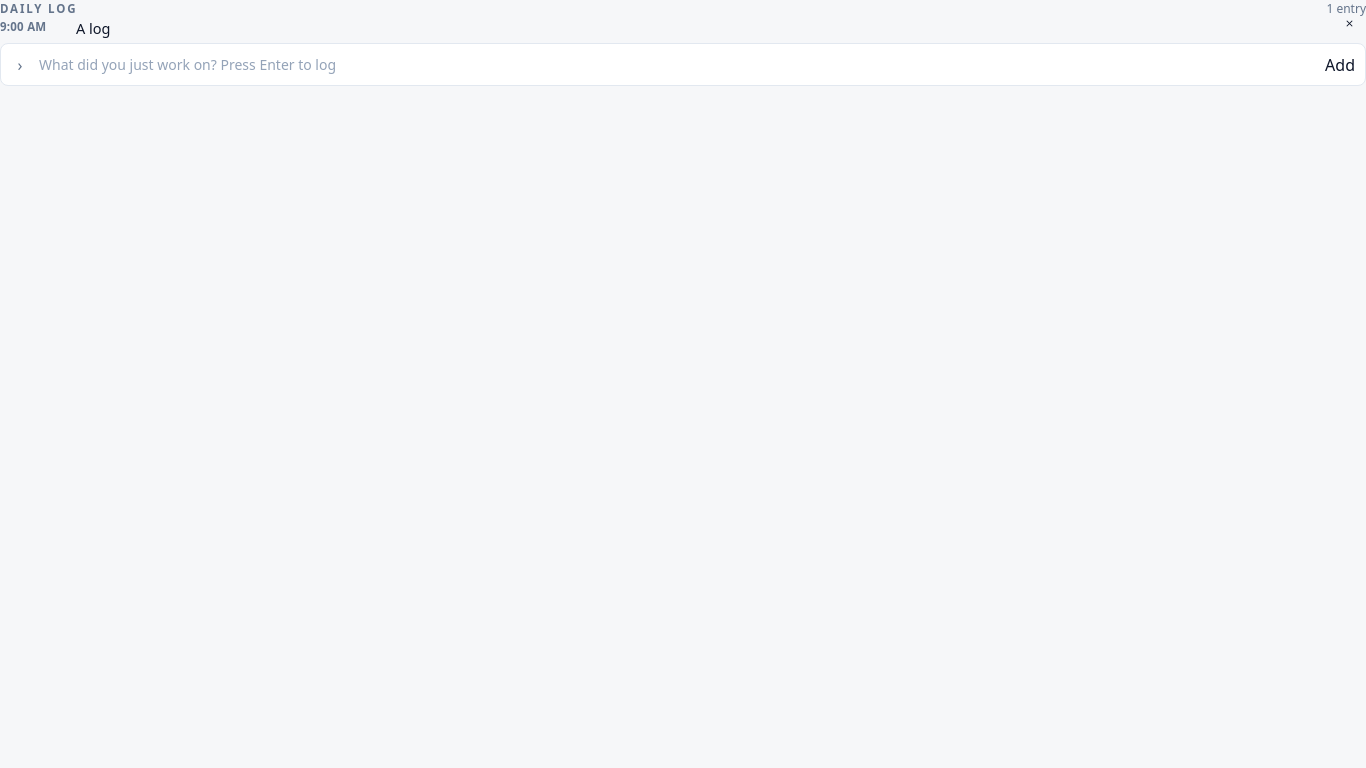
Test: journal undo acceptance (note, log, subtask) › AC24: a failed log delete restores the entry and shows the role=alert "Couldn't delete. Restored."
The image size is (1366, 768).
Click the button named "Delete entry".
click(1355, 24)  # box [1344,18,1365,29]
Wait 6000 ms
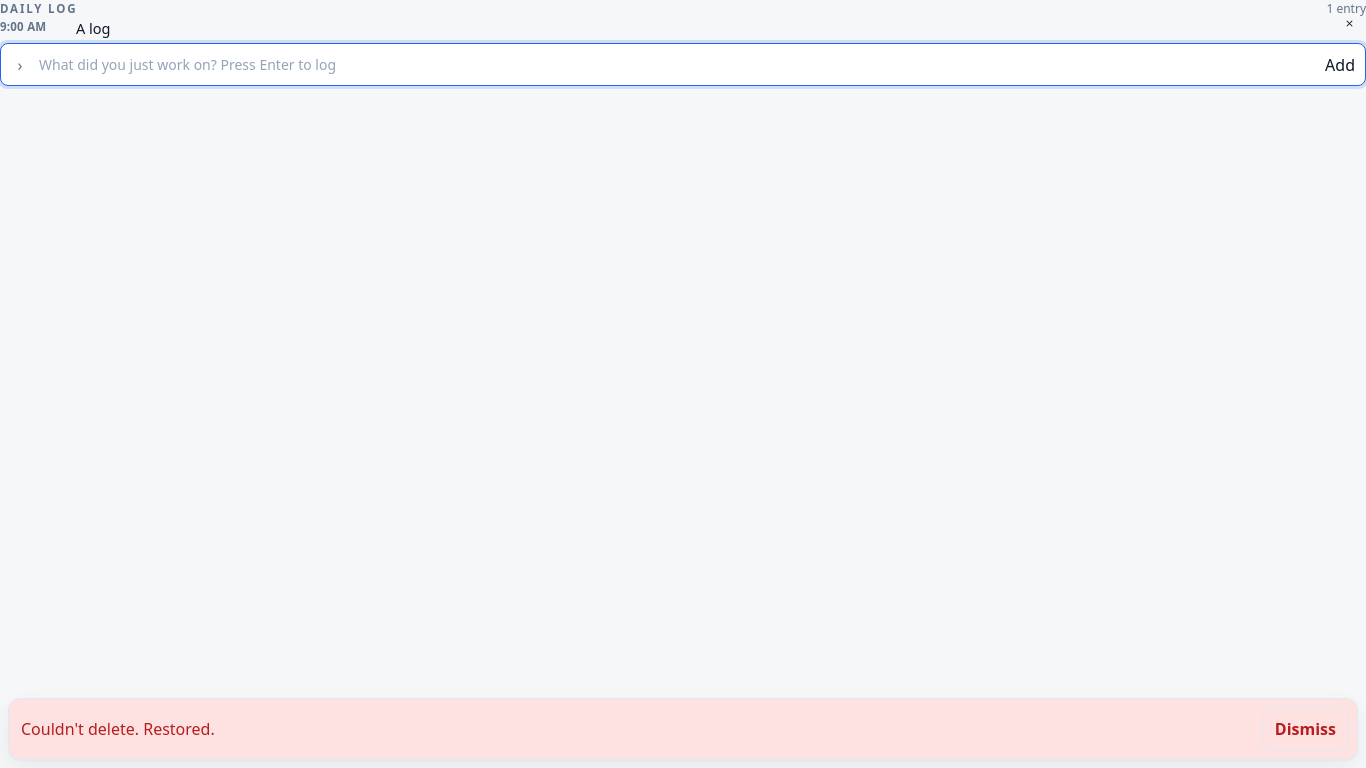
Now the message shows "Couldn't delete. Restored.", box [21,718,215,740]
